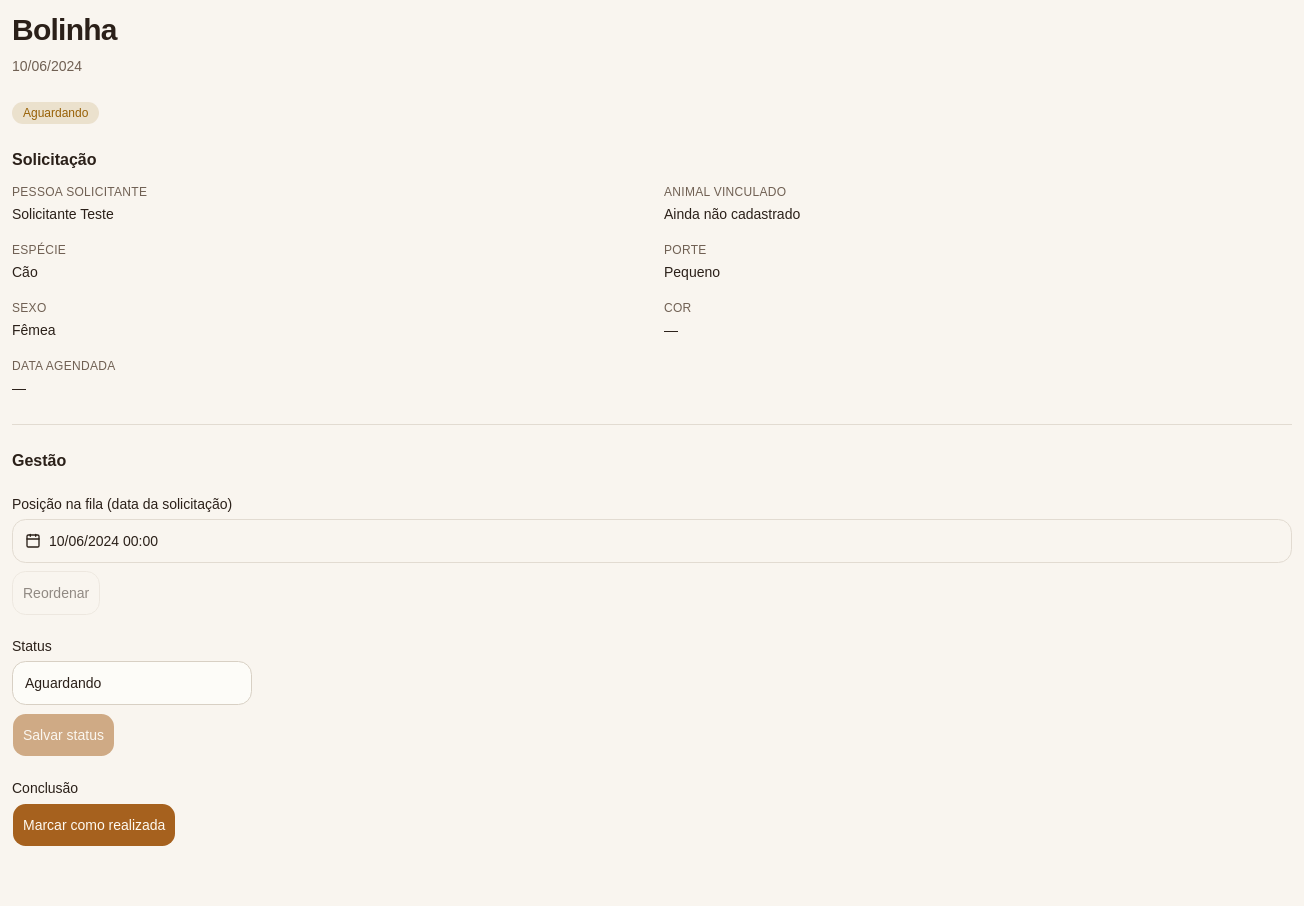
CastrationDetailPage › bloqueia agendar sem data e mostra o campo antes do botão de salvar
Select "Agendada" in the dropdown labelled "Status" at coordinates (132, 683), box top-left (12, 661), bottom-right (252, 705)
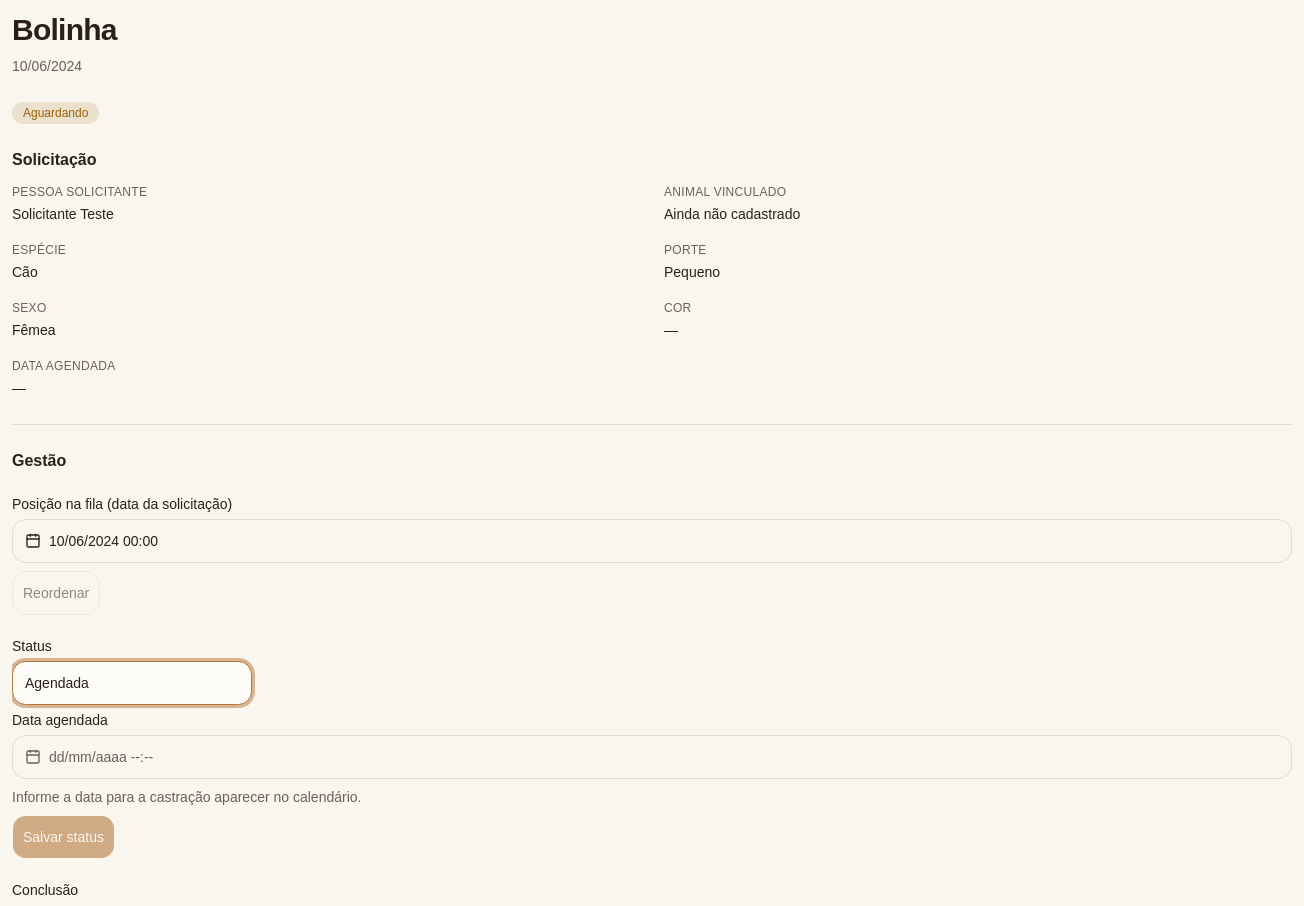
Expected: the button "Salvar status" is disabled, top-left (12, 815), bottom-right (115, 859)
Expected: the button named "Data agendada" is shown, top-left (12, 735), bottom-right (1292, 779)
Expected: the text "Informe a data para a castração aparecer no calendário." is shown, top-left (12, 789), bottom-right (361, 805)
